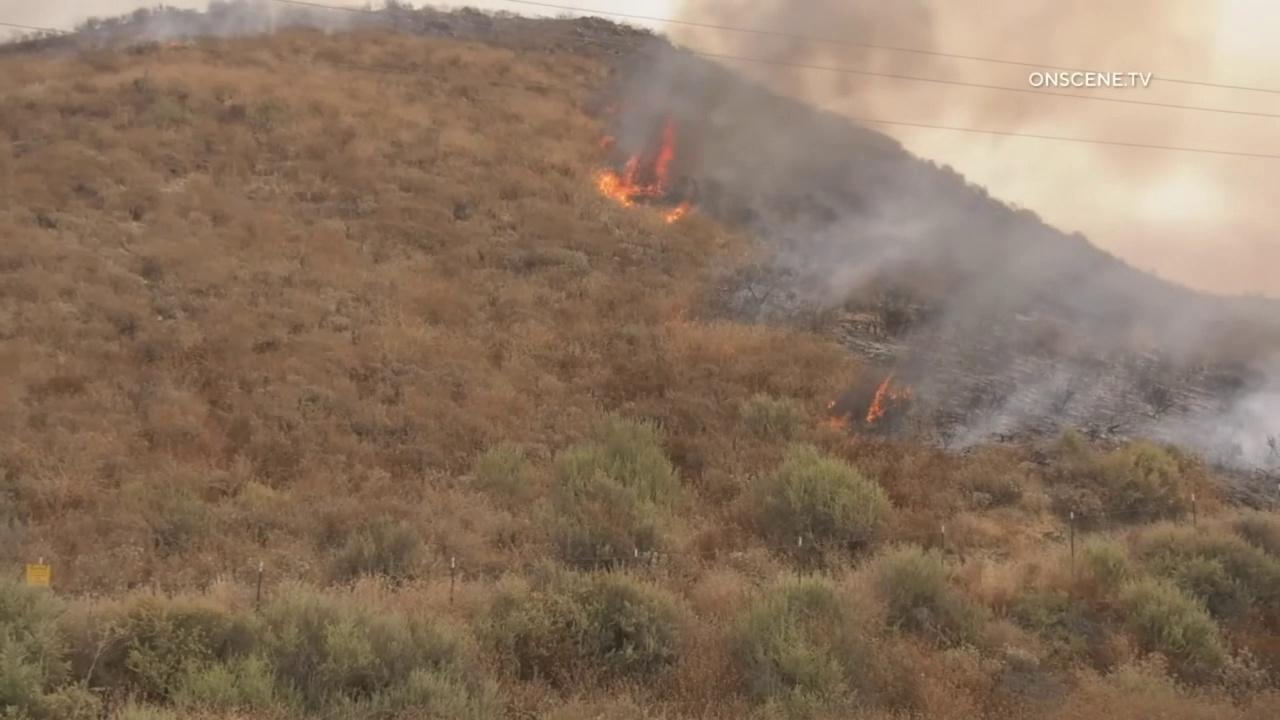fire: (595, 111, 674, 206), (864, 371, 915, 424), (664, 201, 690, 225), (826, 411, 857, 430), (827, 400, 836, 409)
smoke: (592, 0, 1280, 480), (0, 0, 400, 61)
